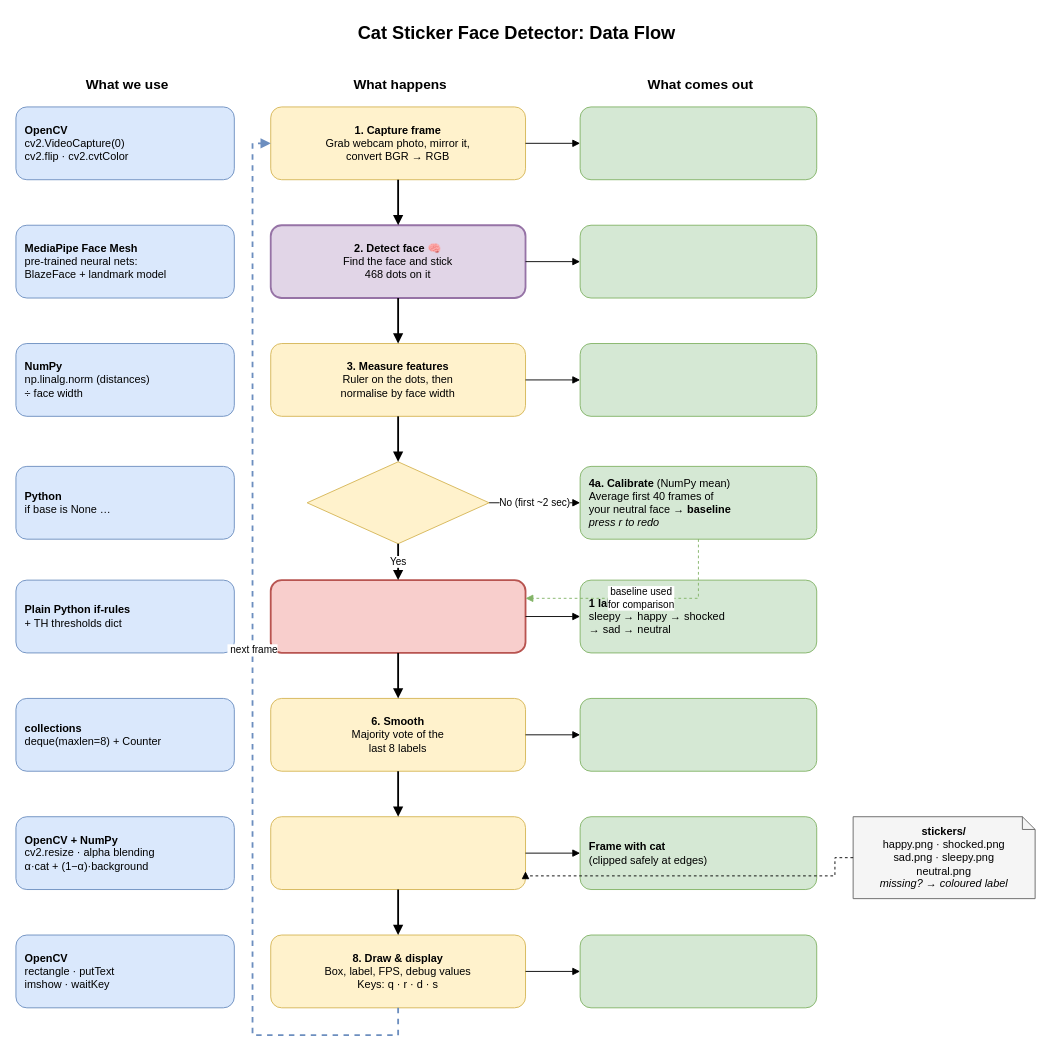
This 1051x1058 diagram has some shape labels left out. Here are the shapes that lost their labels. From the top down, the centre of each, then its label:
point 698,143: RGB image grid of pixels (H × W × 3)
point 698,261: 468 landmarks (x, y) + bounding box (min/max of the dots)
point 698,379: 5 numbers mouth_open · mouth_width smile_curve · eye_open · brow
point 397,502: 4. Calibrated yet?
point 397,616: 5. Classify expression Compare now vs baseline, rules checked in order
point 698,734: Stable label no flicker when you blink
point 398,853: 7. Overlay sticker Resize cat PNG to face width, blend next to the face
point 698,971: Window on screen s → screenshot saved
